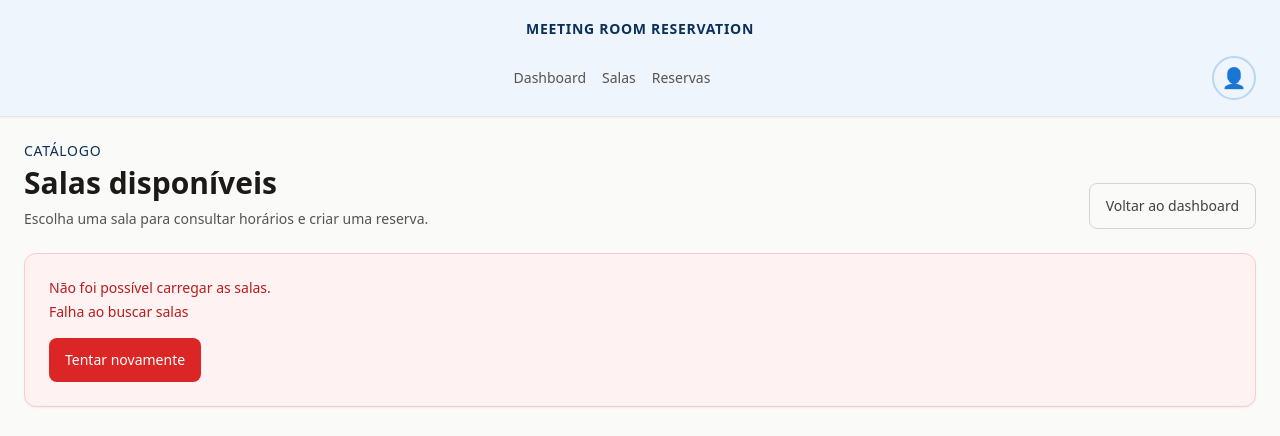
RoomsPage extra states › shows an error state and retries on demand
The width and height of the screenshot is (1280, 436).
expect the text "Não foi possível carregar as salas." is shown: met, box [49,278,271,297]
Click the button "Tentar novamente" at [125, 360], box [49,338,201,382]
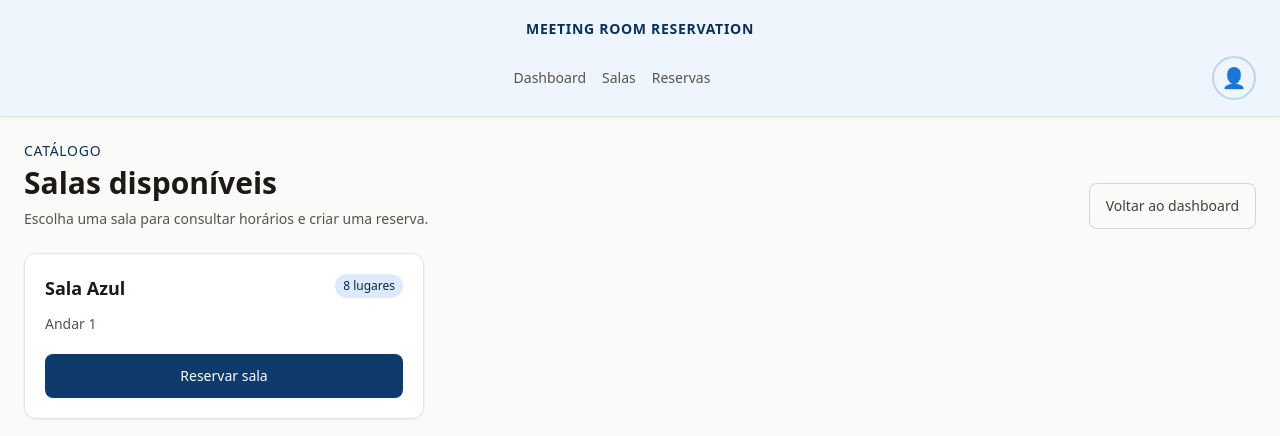
expect the heading "Sala Azul" is shown: met, box [45,274,125,302]
